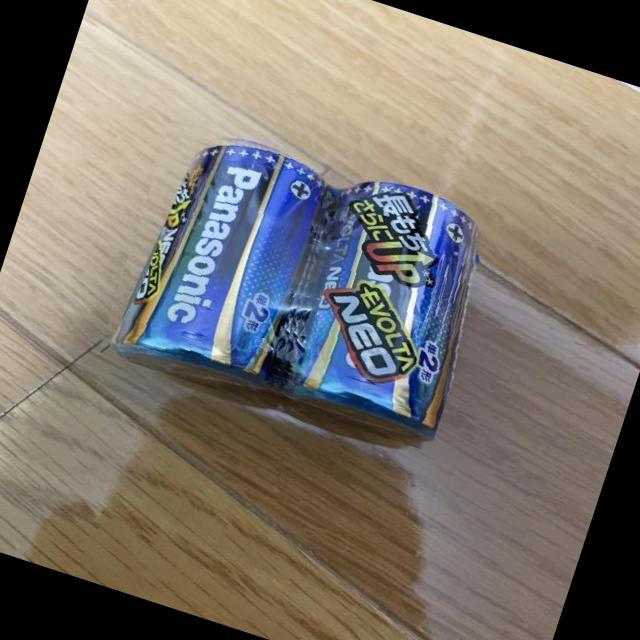Hazard: (258, 160, 506, 452), (95, 110, 334, 404)
